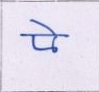o_matra: (47, 23, 58, 52)
